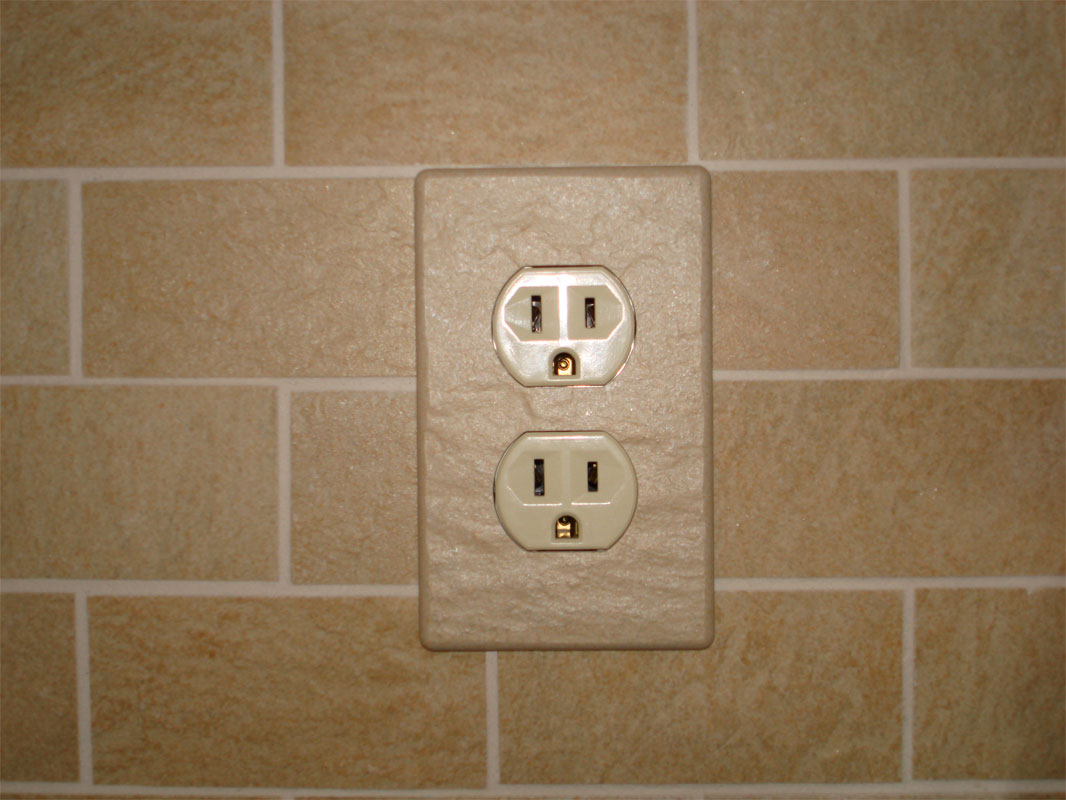outlet: (517, 286, 616, 384), (524, 446, 611, 550)
